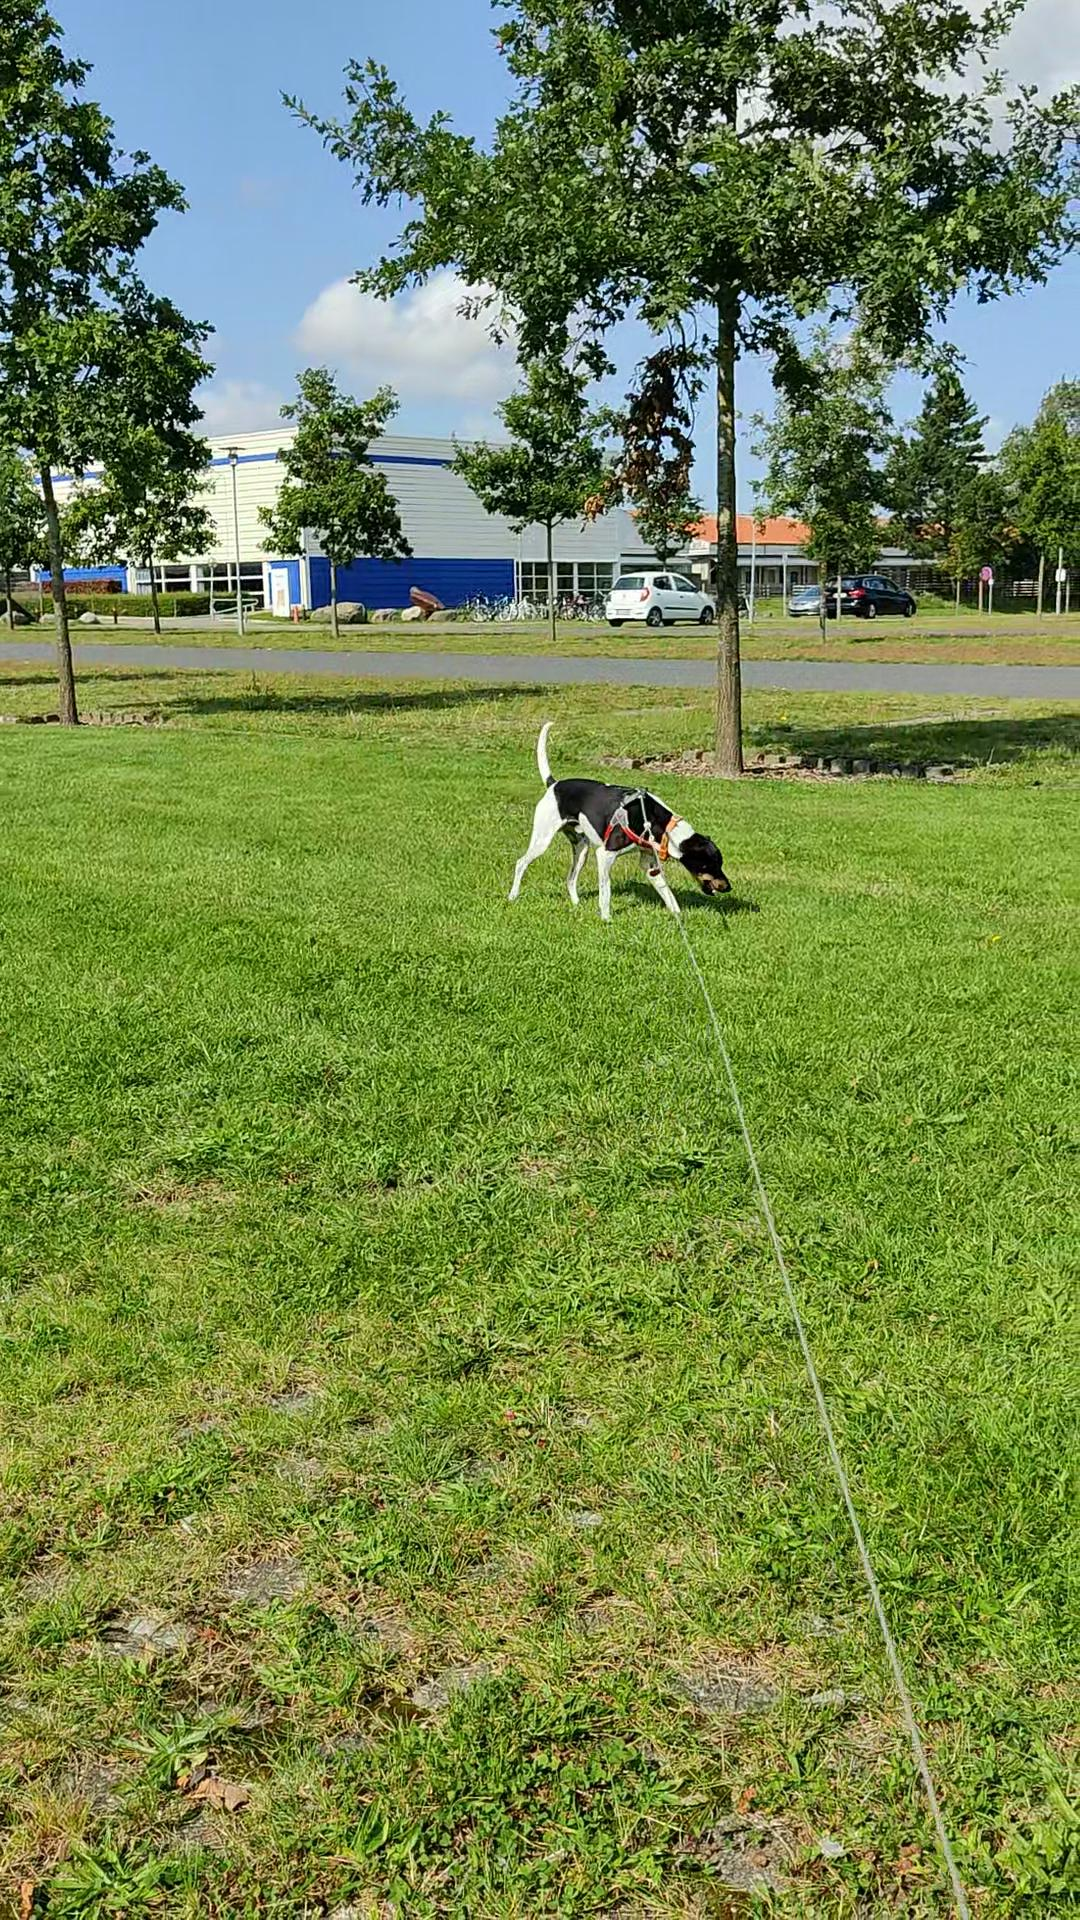Dog: (504, 715, 731, 919)
